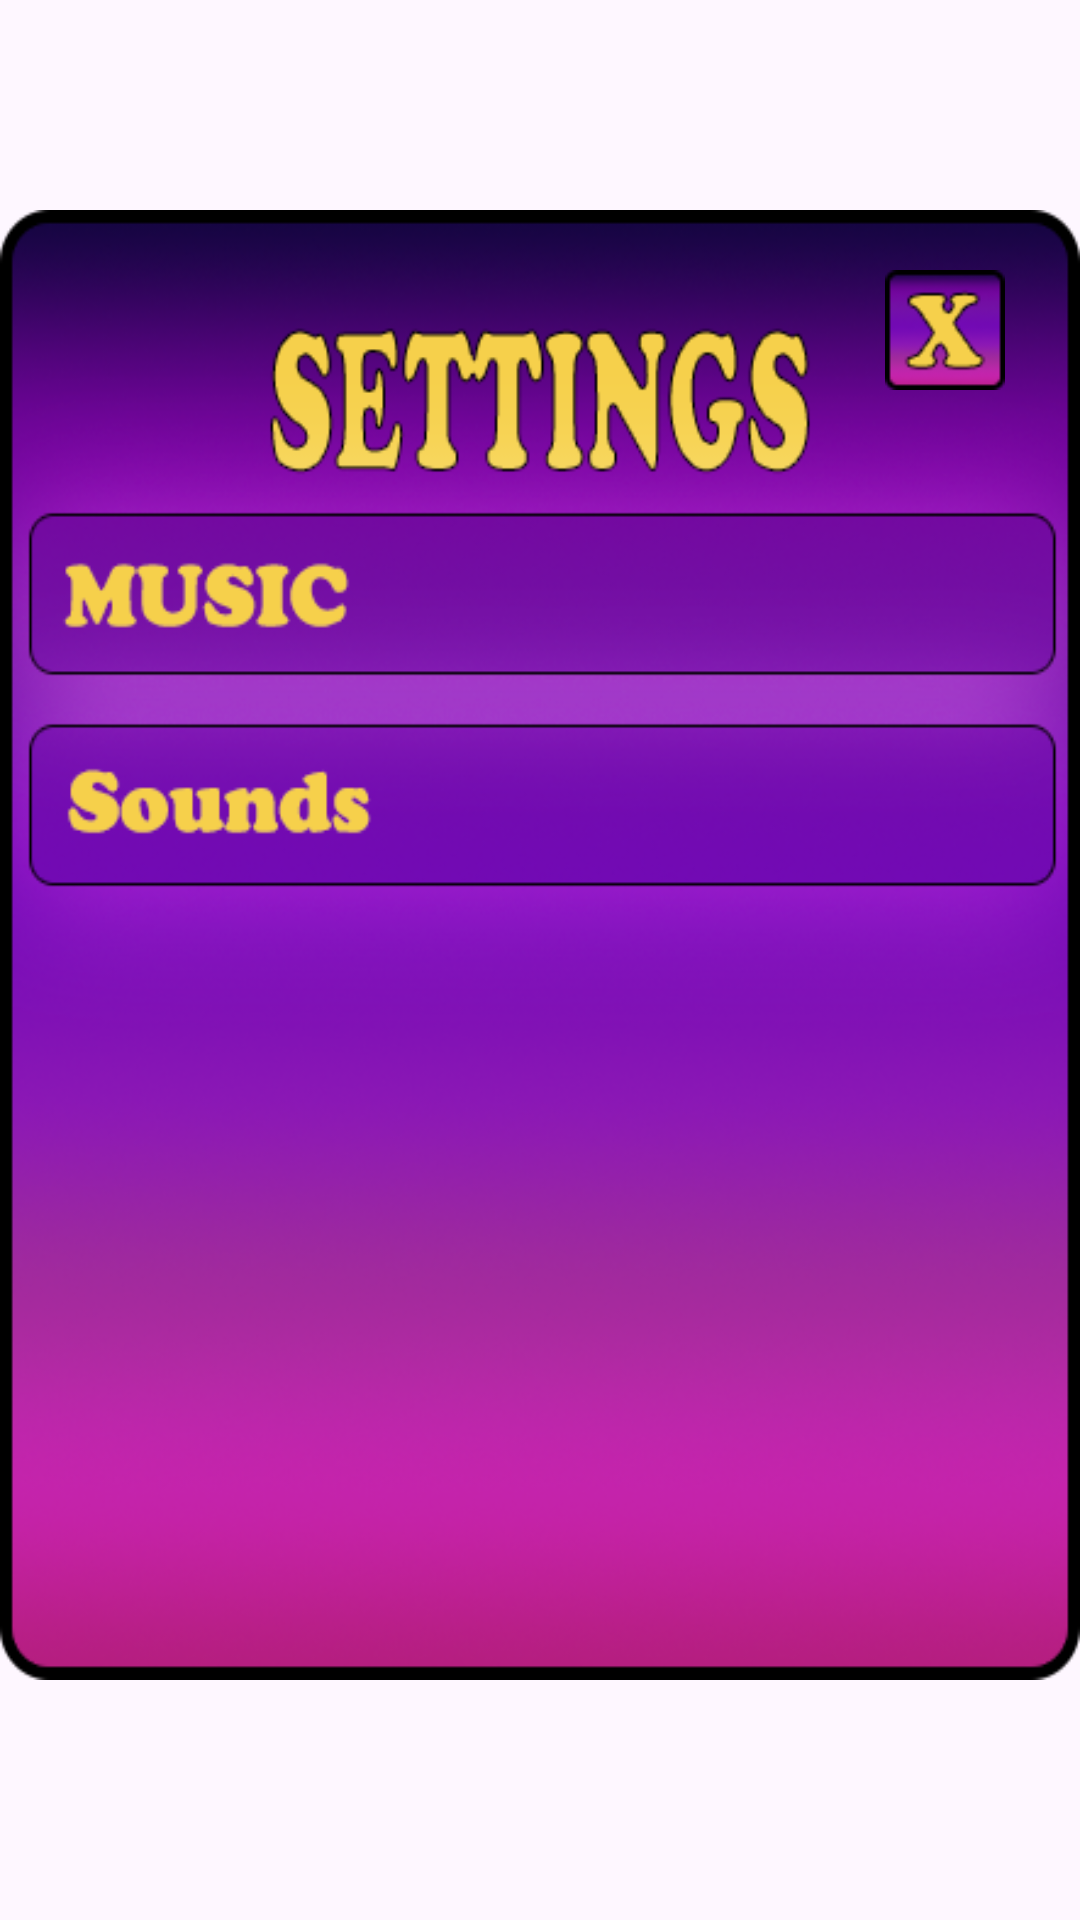

Icon click points for this 1080px×1920px phone screenshot, format (x,y):
close: (945,330)
